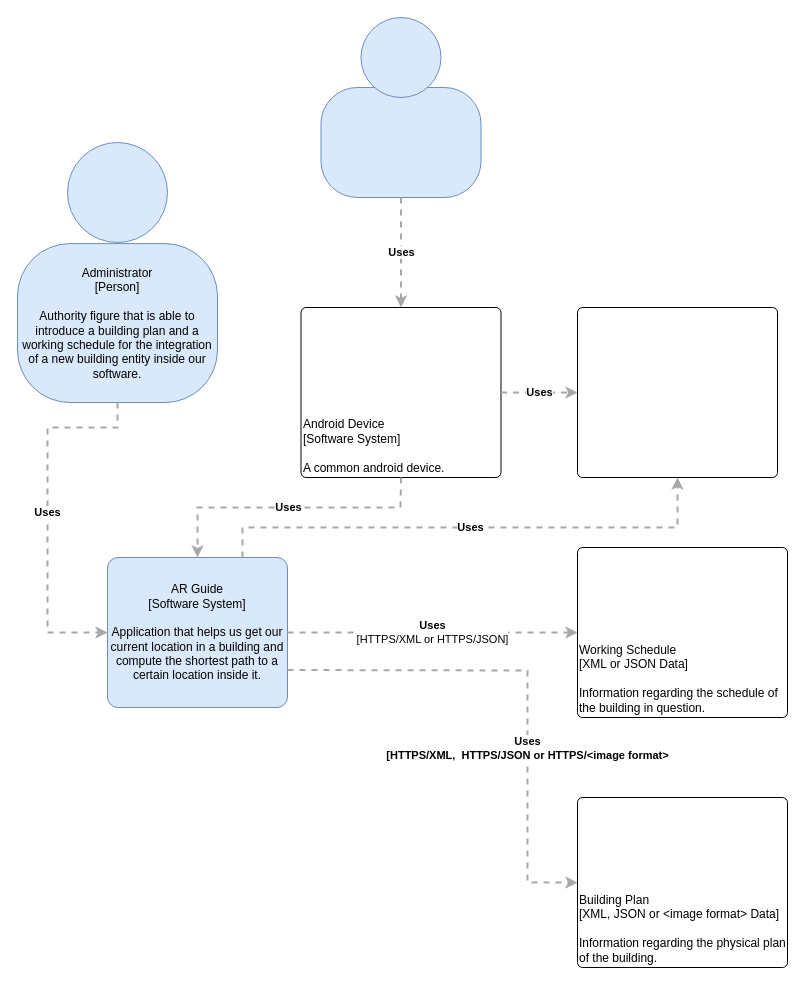
This 805x985 diagram has some shape labels left out. The shapes that lost their labels are listed below. From the top down, each one's box as (x1, y1, x2, y2) in pixels, then its label:
(320, 86, 481, 198): User [Person] Individual utilizing our application.
(576, 306, 778, 478): Camera [Software System] A simple video-capturing camera.
